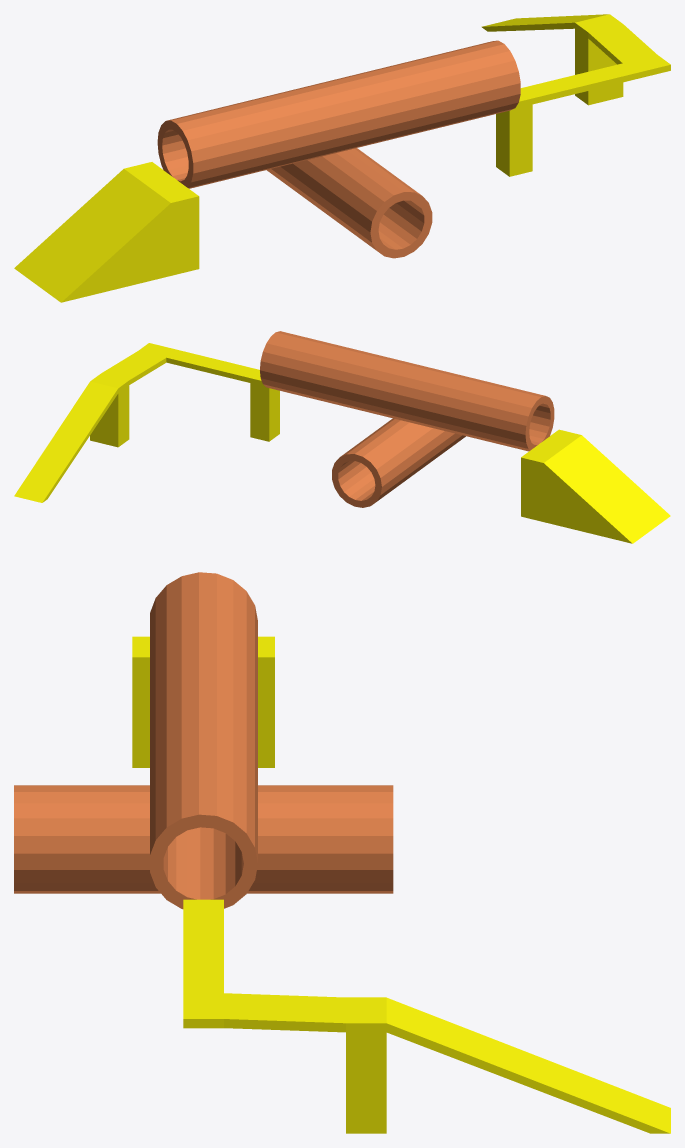
Rendered from testBridge.glb.
3 renders of one model, top to bottom at view 1: azimuth 30°, elevation 25°; view 2: azimuth 150°, elevation 25°; view 3: azimuth 270°, elevation 25°, orthographic. The views are drawn at different scales.
Parts seen in each view (by area): view 1: 柱体, 立方体.001, 立方体, 柱体.001; view 2: 柱体, 立方体.001, 立方体, 柱体.001; view 3: 柱体, 柱体.001, 立方体, 立方体.001.
Boxes of the visible parts, left/top/right/bottom form: 柱体: left=157, top=40, right=520, bottom=188; 立方体.001: left=14, top=162, right=199, bottom=302; 立方体: left=481, top=14, right=670, bottom=176; 柱体.001: left=266, top=148, right=432, bottom=258; 柱体: left=260, top=331, right=554, bottom=451; 立方体.001: left=521, top=429, right=670, bottom=543; 立方体: left=14, top=343, right=279, bottom=502; 柱体.001: left=332, top=418, right=465, bottom=507; 柱体: left=150, top=572, right=257, bottom=909; 柱体.001: left=14, top=785, right=393, bottom=893; 立方体: left=183, top=899, right=670, bottom=1133; 立方体.001: left=132, top=636, right=274, bottom=767.
Bounding box in the file's own units: 54.5 × 10.62 × 32.33.
